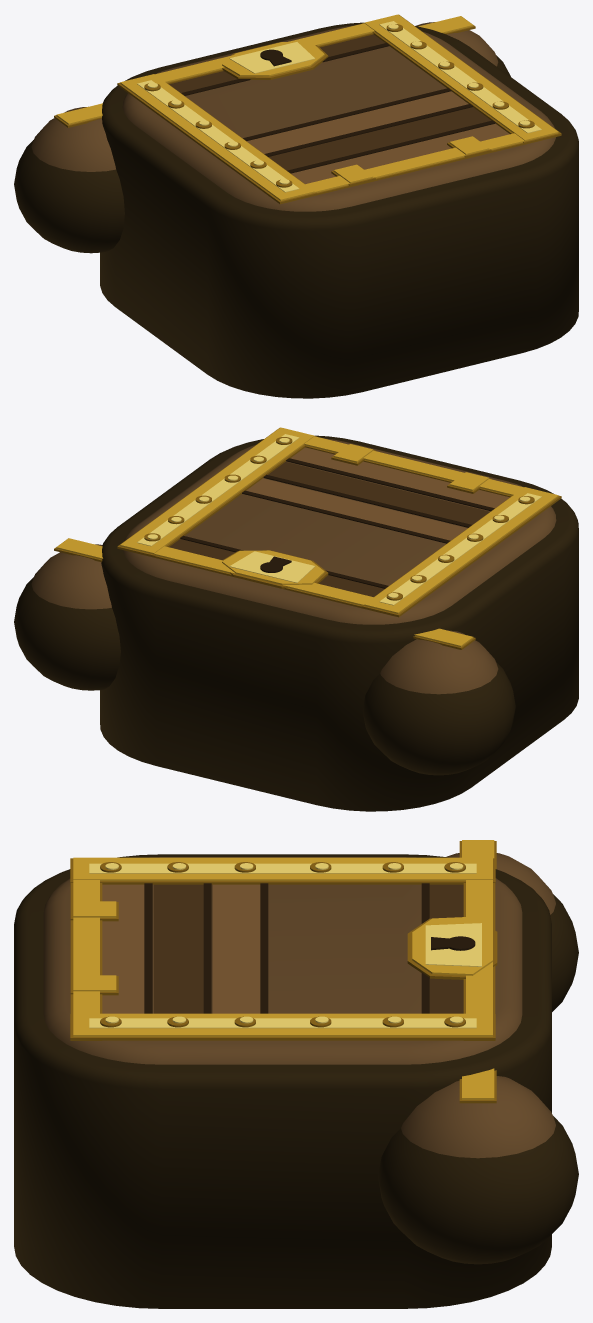
The model's file is body_estampa_bau.fbx.
3 renders of one model, top to bottom at view 1: azimuth 30°, elevation 25°; view 2: azimuth 150°, elevation 25°; view 3: azimuth 270°, elevation 25°, orthographic. The views are drawn at different scales.
Visible parts, largest first — view 1: body_estampa_bau_corpo, body_estampa_bau_mao_esq, body_estampa_bau_mao; view 2: body_estampa_bau_corpo, body_estampa_bau_mao_esq, body_estampa_bau_mao; view 3: body_estampa_bau_corpo, body_estampa_bau_mao, body_estampa_bau_mao_esq.
Boxes of the visible parts, x1,y1,x2,y2 form: body_estampa_bau_corpo: [100, 14, 578, 398]; body_estampa_bau_mao_esq: [14, 103, 124, 253]; body_estampa_bau_mao: [416, 16, 510, 76]; body_estampa_bau_corpo: [100, 427, 578, 811]; body_estampa_bau_mao_esq: [362, 628, 515, 775]; body_estampa_bau_mao: [14, 538, 120, 690]; body_estampa_bau_corpo: [14, 854, 551, 1308]; body_estampa_bau_mao: [378, 1068, 578, 1264]; body_estampa_bau_mao_esq: [446, 840, 578, 1011].
Bounding box in the file's own units: 5.4 × 2.07 × 4.2.
Materials: 1 (1 with a texture image).
